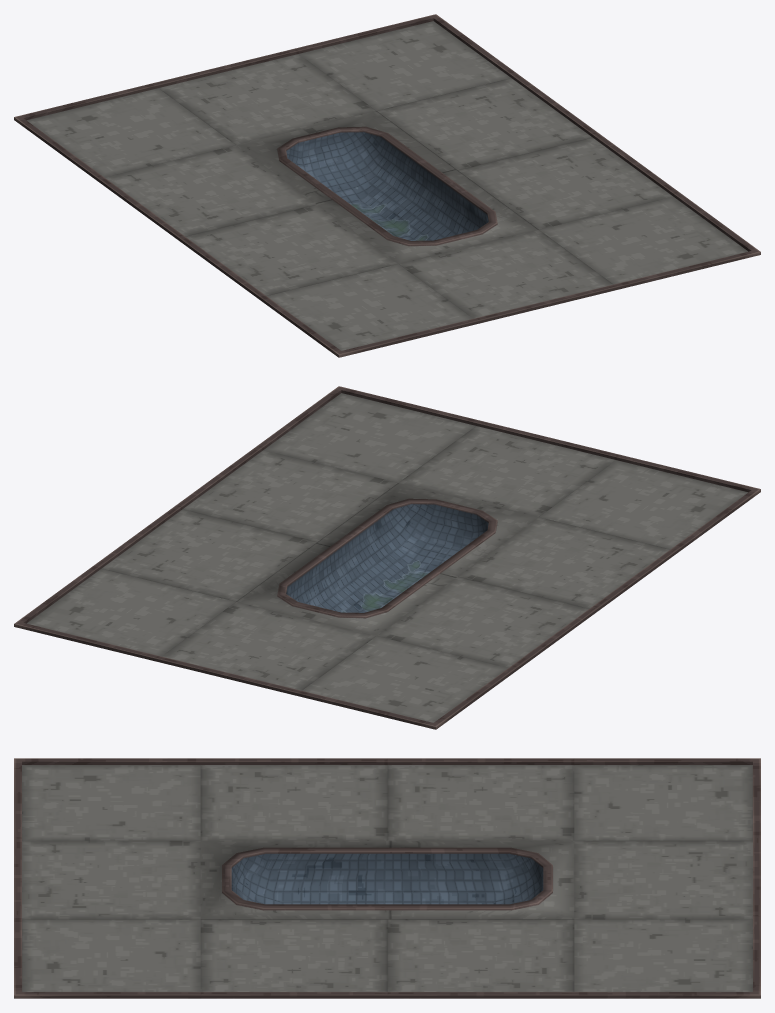
Rendered from PoolRoof.fbx.
3 views of the same model, one above another, from view 1: azimuth 30°, elevation 25°; view 2: azimuth 150°, elevation 25°; view 3: azimuth 270°, elevation 25° (orthographic). The views are drawn at different scales.
Parts seen in each view (by area): view 1: PoolRoof; view 2: PoolRoof; view 3: PoolRoof.
Boxes of the visible parts, x1=… form: PoolRoof: x1=14, y1=14, x2=760, y2=357; PoolRoof: x1=14, y1=386, x2=760, y2=729; PoolRoof: x1=14, y1=758, x2=760, y2=998.
Bounding box in the file's own units: 300 × 32.3 × 400.
